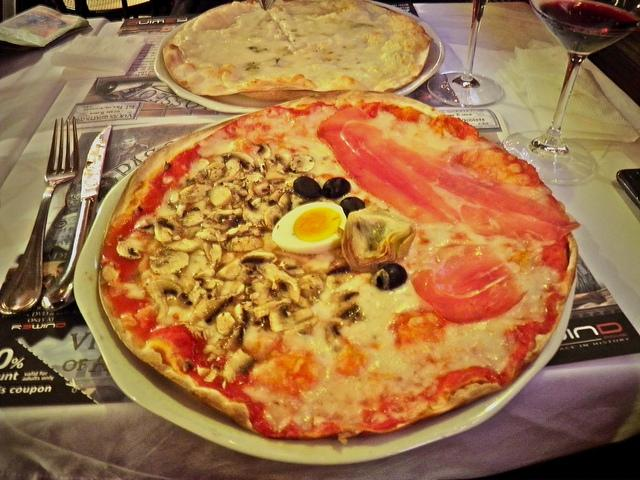mushroom: (256, 264, 300, 302), (178, 249, 212, 293), (146, 280, 182, 319), (214, 152, 254, 184), (195, 294, 234, 325), (224, 347, 256, 382), (150, 252, 190, 274), (332, 301, 366, 324), (220, 235, 264, 252), (253, 299, 292, 318), (154, 236, 200, 252), (325, 322, 349, 352), (179, 184, 213, 204), (243, 200, 269, 226), (240, 251, 277, 269), (296, 274, 324, 296), (208, 184, 232, 208), (252, 278, 272, 306), (222, 326, 244, 350), (214, 208, 243, 226), (266, 163, 290, 184), (269, 303, 289, 328), (154, 216, 173, 242), (268, 186, 292, 206), (278, 259, 306, 276), (193, 269, 215, 290), (116, 241, 140, 260), (196, 228, 228, 242), (216, 312, 235, 335), (290, 154, 314, 172), (326, 258, 351, 275), (220, 280, 245, 297), (216, 264, 242, 280), (182, 210, 204, 228), (224, 222, 252, 236), (122, 284, 146, 300), (206, 162, 225, 181), (248, 181, 270, 197), (279, 192, 292, 216), (275, 153, 291, 172), (254, 143, 270, 159), (168, 194, 184, 210), (210, 244, 222, 265), (167, 219, 181, 236), (234, 304, 247, 322), (252, 163, 266, 177)
